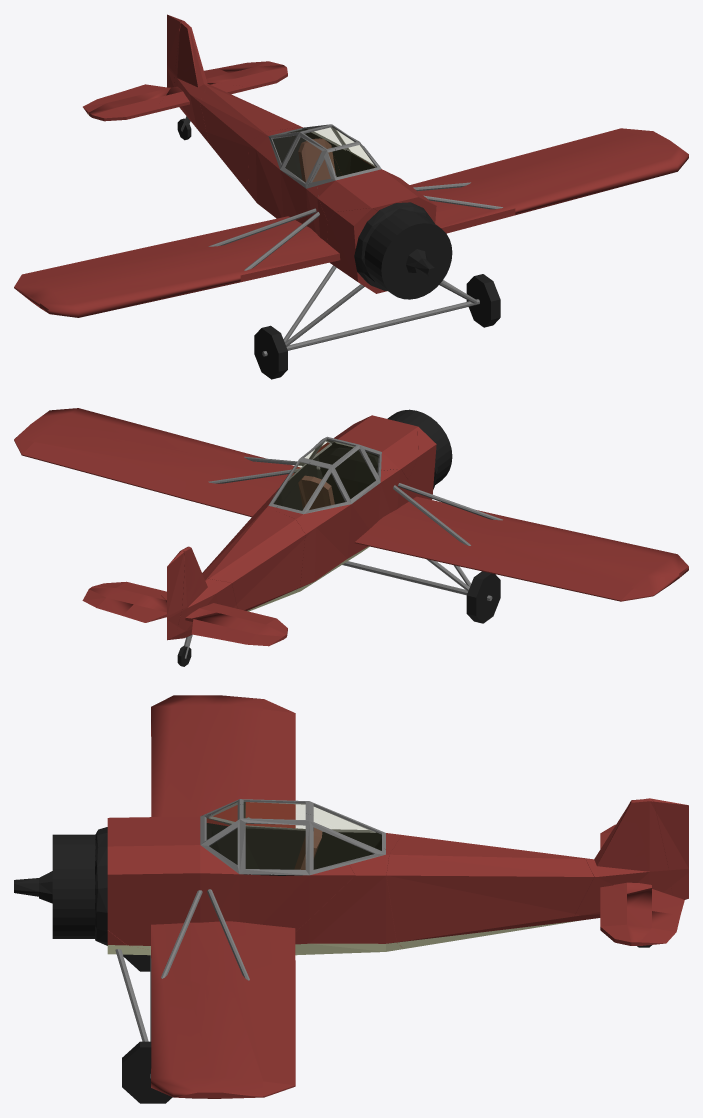
File: aircraft_3_breakaway.glb
The picture shows the model from 3 angles, top to bottom: view 1: azimuth 30°, elevation 25°; view 2: azimuth 150°, elevation 25°; view 3: azimuth 270°, elevation 25°; orthographic projection. The views are drawn at different scales.
Parts seen in each view (by area): view 1: fuselage, OuterWingRight, OuterWingLeft, tail.002, wing right, wing left, landing gear struts, aileron left, aileron right, broken cockpit section, MainWheelLeft, Object.003 (+8 smaller); view 2: fuselage, tail.002, OuterWingLeft, OuterWingRight, wing right, wing left, aileron left, aileron right, elevator, broken cockpit section, rudder, MainWheelLeft (+7 smaller); view 3: fuselage, tail.002, OuterWingLeft, OuterWingRight, wing left, rudder, cockpit, aileron right, aileron left, wing right, broken cockpit section, VerticalTip (+5 smaller).
Part boxes in pixels (bbox=[...]): fuselage: bbox=[248, 127, 452, 299]; OuterWingRight: bbox=[14, 249, 214, 317]; OuterWingLeft: bbox=[491, 131, 688, 208]; tail.002: bbox=[123, 62, 301, 191]; wing right: bbox=[172, 216, 340, 287]; wing left: bbox=[410, 168, 540, 233]; landing gear struts: bbox=[262, 265, 479, 356]; aileron left: bbox=[471, 128, 653, 174]; aileron right: bbox=[14, 241, 184, 287]; broken cockpit section: bbox=[268, 127, 335, 188]; MainWheelLeft: bbox=[254, 325, 287, 379]; Object.003: bbox=[466, 274, 500, 327]; fuselage: bbox=[256, 409, 452, 595]; tail.002: bbox=[123, 507, 305, 637]; OuterWingLeft: bbox=[15, 408, 214, 480]; OuterWingRight: bbox=[491, 524, 688, 595]; wing right: bbox=[354, 496, 540, 568]; wing left: bbox=[172, 445, 300, 517]; aileron left: bbox=[14, 439, 184, 495]; aileron right: bbox=[471, 555, 653, 601]; elevator: bbox=[82, 589, 283, 646]; broken cockpit section: bbox=[277, 442, 381, 514]; rudder: bbox=[167, 550, 187, 640]; MainWheelLeft: bbox=[466, 571, 500, 623]; fuselage: bbox=[14, 816, 403, 955]; tail.002: bbox=[386, 835, 651, 948]; OuterWingLeft: bbox=[151, 994, 262, 1098]; OuterWingRight: bbox=[151, 695, 262, 799]; wing left: bbox=[151, 921, 295, 999]; rudder: bbox=[649, 798, 688, 899]; cockpit: bbox=[200, 804, 385, 875]; aileron right: bbox=[263, 699, 295, 810]; aileron left: bbox=[263, 993, 295, 1097]; wing right: bbox=[151, 792, 295, 828]; broken cockpit section: bbox=[201, 799, 385, 849]; VerticalTip: bbox=[596, 798, 649, 859].
Bounding box in the file's own units: 10.68 × 2.97 × 7.67.
